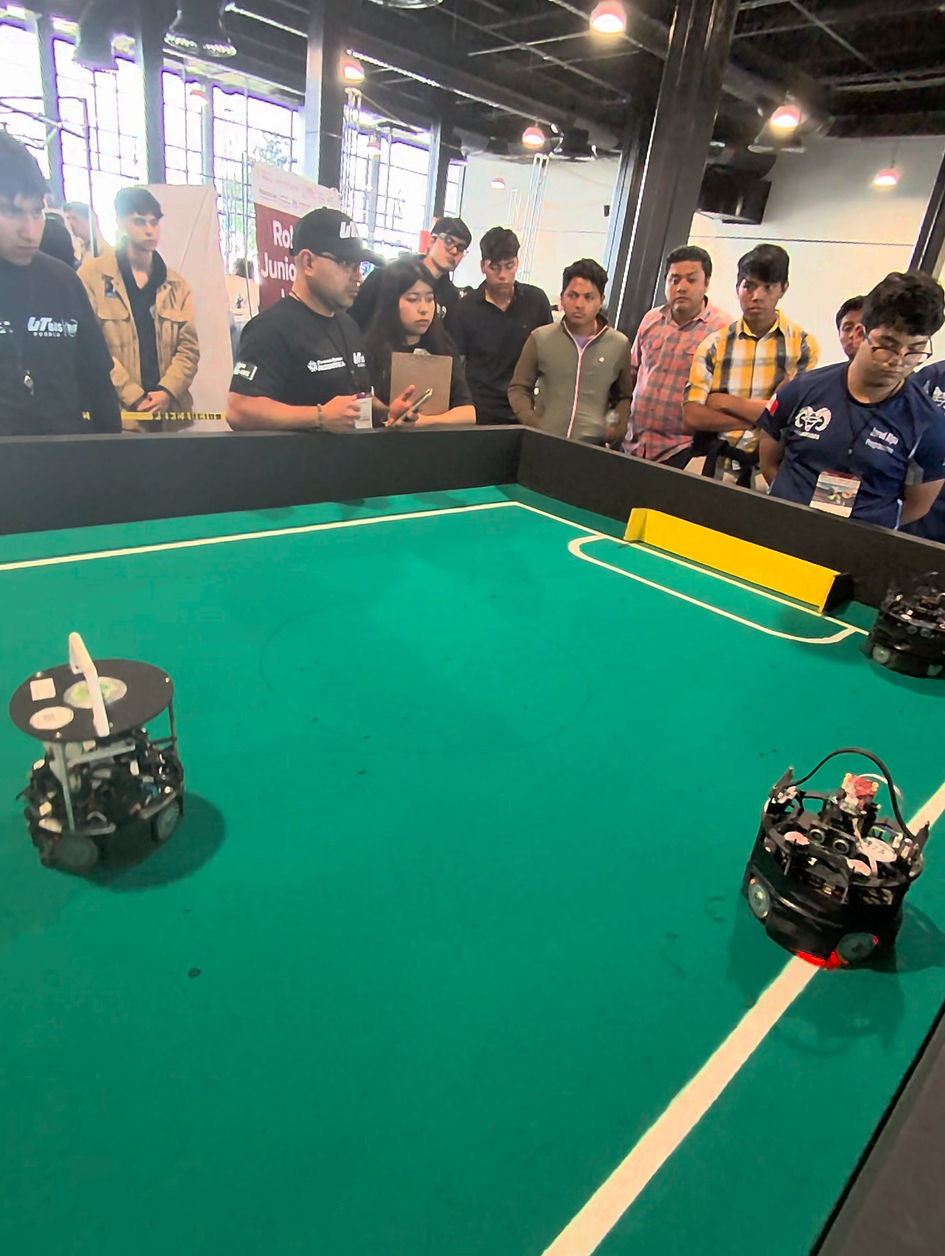Robot: (7, 622, 209, 891), (743, 732, 936, 983), (868, 570, 945, 698)
